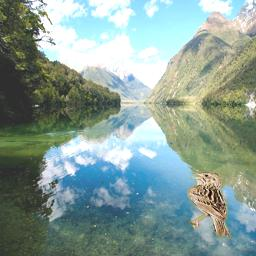Sparrow: (187, 171, 231, 239)
